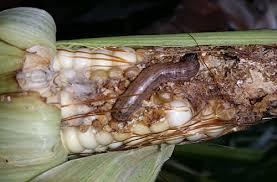fallarmy_worm: (107, 53, 204, 123)
